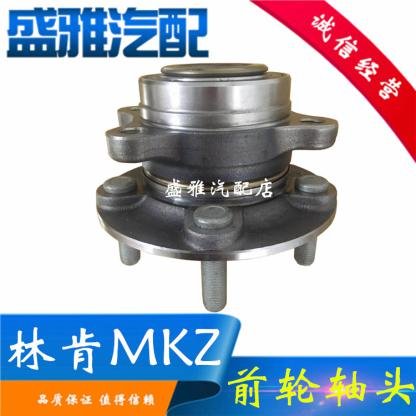FOD: (102, 61, 344, 168), (93, 160, 339, 263)
